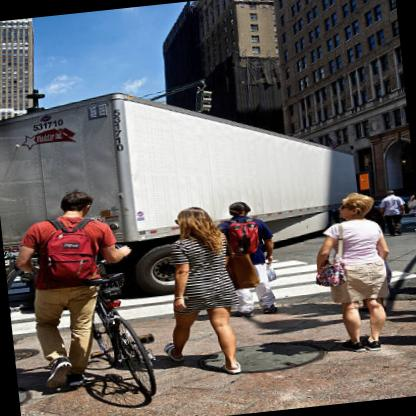manholes: (183, 306, 338, 400)
